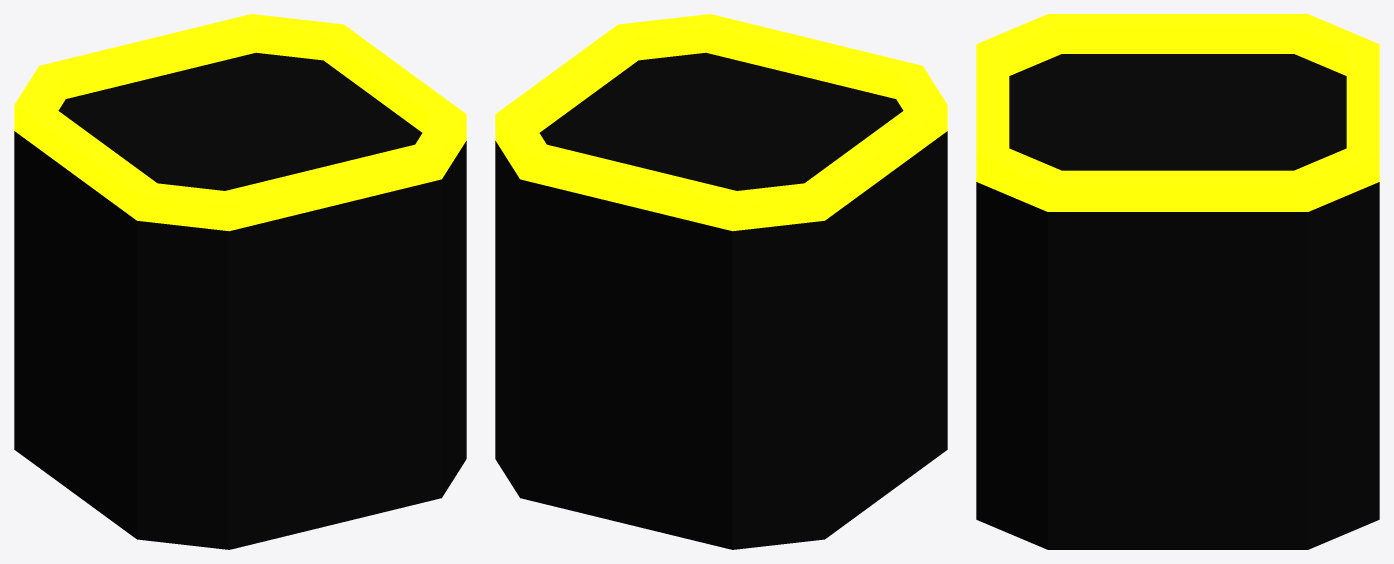
File: mdl_zesty_powernodeon.gltf
3 renders of one model, left to right at view 1: azimuth 30°, elevation 25°; view 2: azimuth 150°, elevation 25°; view 3: azimuth 270°, elevation 25°, orthographic. The views are drawn at different scales.
Parts seen in each view (by area): view 1: mdl_zesty_powernodeon; view 2: mdl_zesty_powernodeon; view 3: mdl_zesty_powernodeon.
Boxes of the visible parts, bbox=[...] form: mdl_zesty_powernodeon: bbox=[14, 14, 466, 549]; mdl_zesty_powernodeon: bbox=[495, 14, 947, 549]; mdl_zesty_powernodeon: bbox=[976, 14, 1379, 549].
Size of the model in its own units: 0.1 by 0.1 by 0.1.
